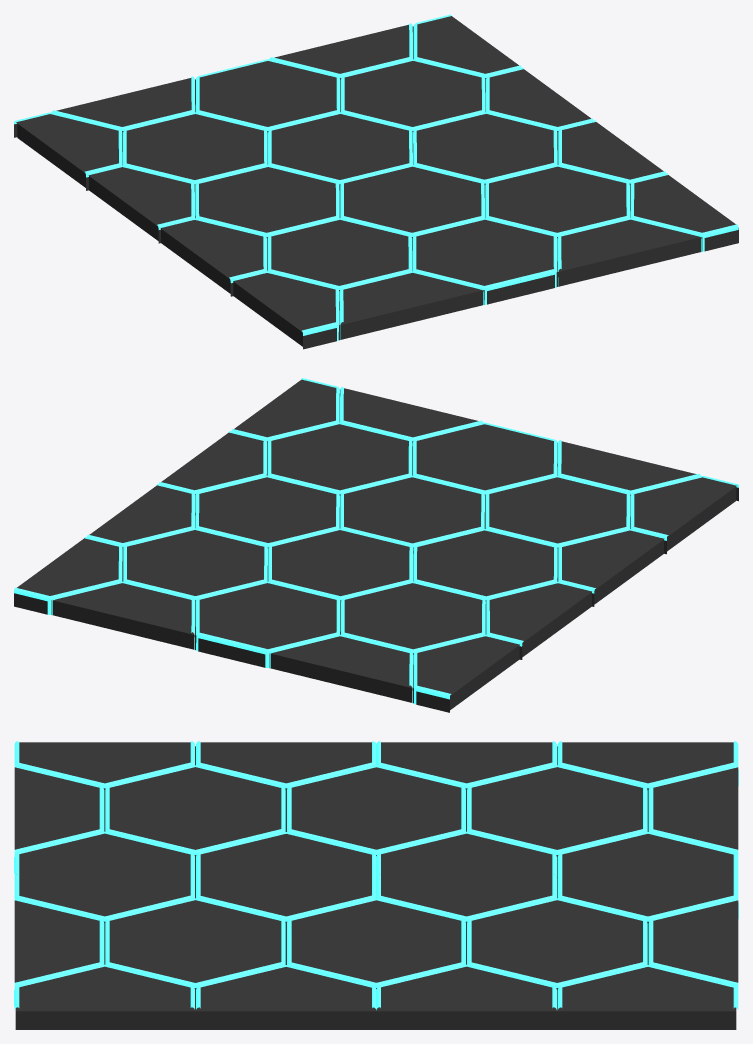
The model's file is HexagonalGround.fbx.
The picture shows the model from 3 angles, top to bottom: view 1: azimuth 30°, elevation 25°; view 2: azimuth 150°, elevation 25°; view 3: azimuth 270°, elevation 25°; orthographic projection. The views are drawn at different scales.
Visible parts, largest first — view 1: Cube.004; view 2: Cube.004; view 3: Cube.004.
Part boxes in pixels (box(x1,y1,x2,y2)): Cube.004: box(14, 14, 738, 349); Cube.004: box(14, 378, 738, 712); Cube.004: box(14, 741, 738, 1029).
Bounding box in the file's own units: 1881 × 73.78 × 2163.
